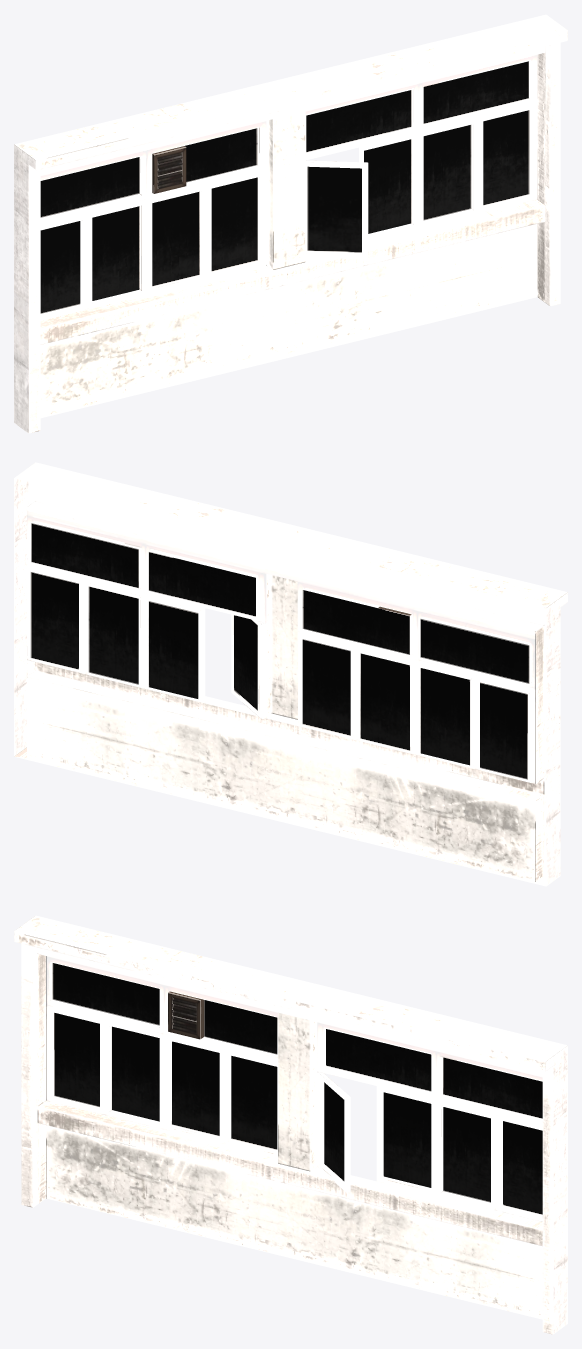
The picture shows the model from 3 angles, top to bottom: view 1: azimuth 30°, elevation 25°; view 2: azimuth 150°, elevation 25°; view 3: azimuth 330°, elevation 25°; orthographic projection.
Visible parts, largest first — view 1: S_B_4; view 2: S_B_4; view 3: S_B_4.
Part boxes in pixels (x1,y1,x2,y2): S_B_4: (14, 14, 567, 433); S_B_4: (14, 462, 567, 886); S_B_4: (14, 915, 567, 1334).
Bounding box in the file's own units: 480 × 240 × 34.84.
Materials: 1 (1 with a texture image).
